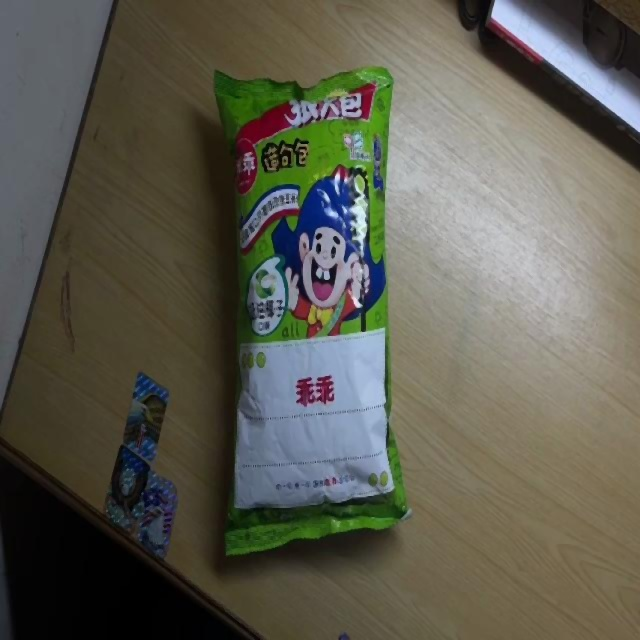Good-Luck: (211, 64, 412, 560)
